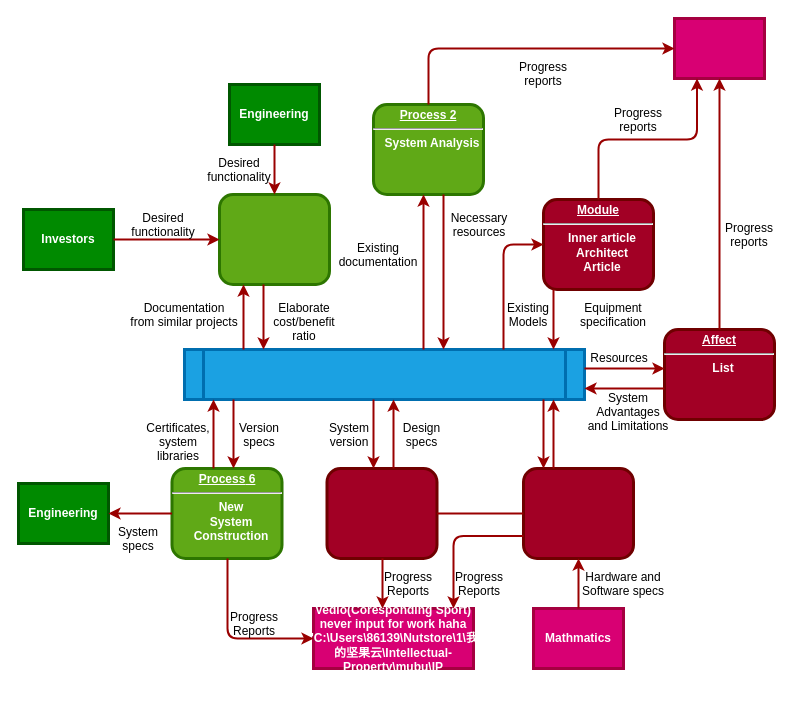
This 793x721 diagram has some shape labels left out. The shapes that lost their labels are listed below. From the top down, each one's centre as x and y in pixels, then its label:
(719,48): Management
(274,239): Tool WorkFlow
(384,374): CoreTarget Green tool entity,Red Concept
(381,513): Process 7 New System Startup and Testing
(578,513): KPI New System Design
